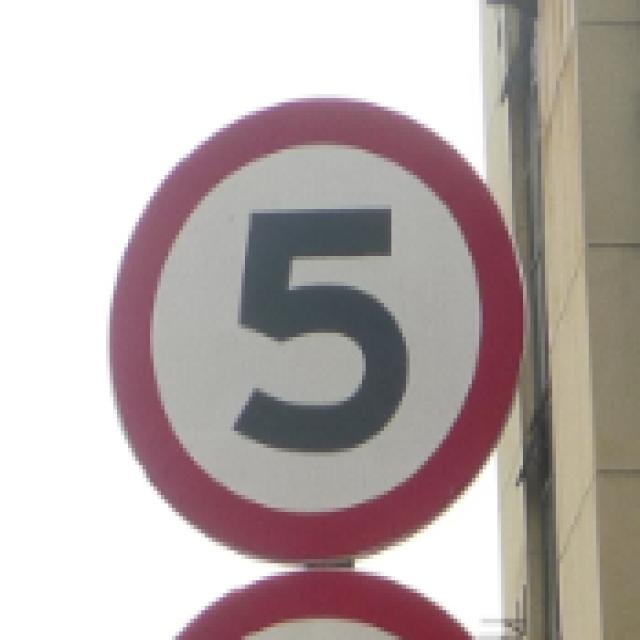Speed: (95, 63, 567, 564)
